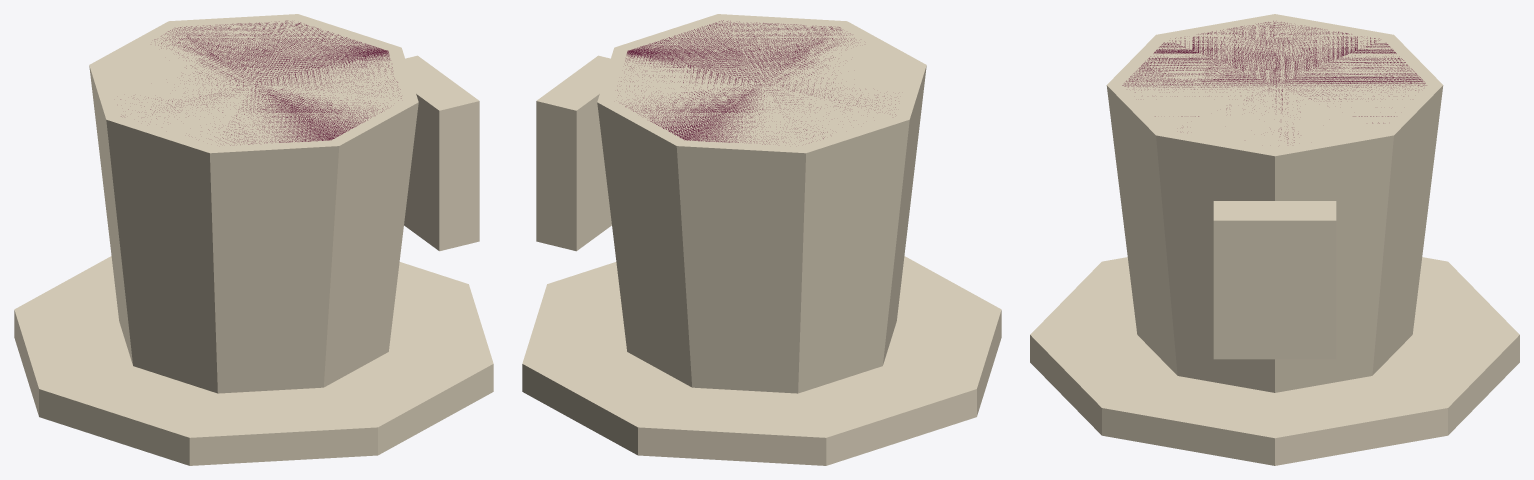
The model's file is berry_tea.glb.
The picture shows the model from 3 angles, left to right: view 1: azimuth 30°, elevation 25°; view 2: azimuth 150°, elevation 25°; view 3: azimuth 270°, elevation 25°; orthographic projection.
Visible parts, largest first — view 1: berry_tea; view 2: berry_tea; view 3: berry_tea.
Part boxes in pixels (x1,y1,x2,y2): berry_tea: [14, 14, 493, 465]; berry_tea: [522, 14, 1001, 465]; berry_tea: [1030, 14, 1519, 465].
Size of the model in its own units: 0.16 by 0.1 by 0.16.
